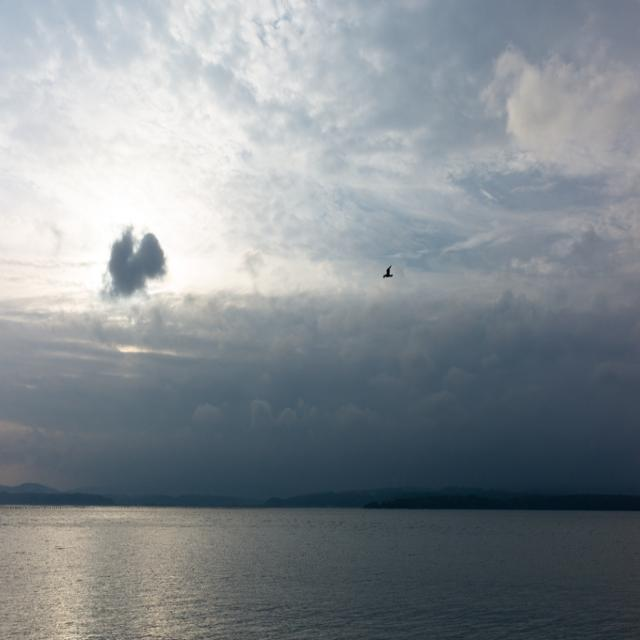bird: (380, 262, 395, 285)
